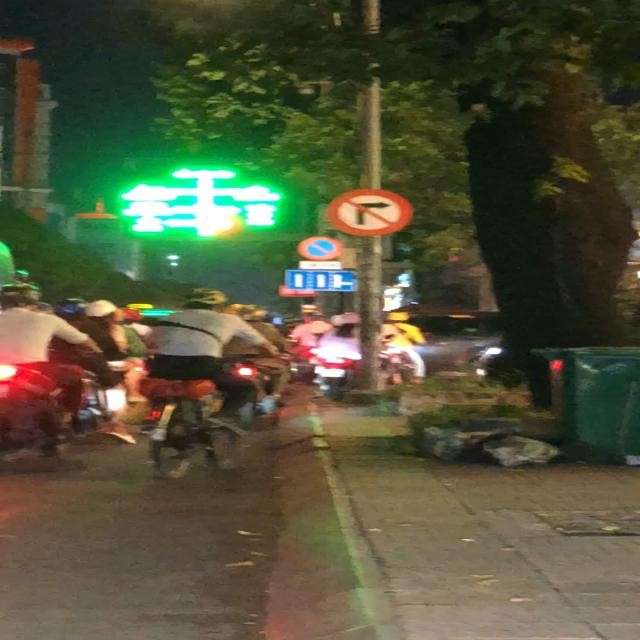Bien bao cam re phai: (326, 186, 416, 238)
